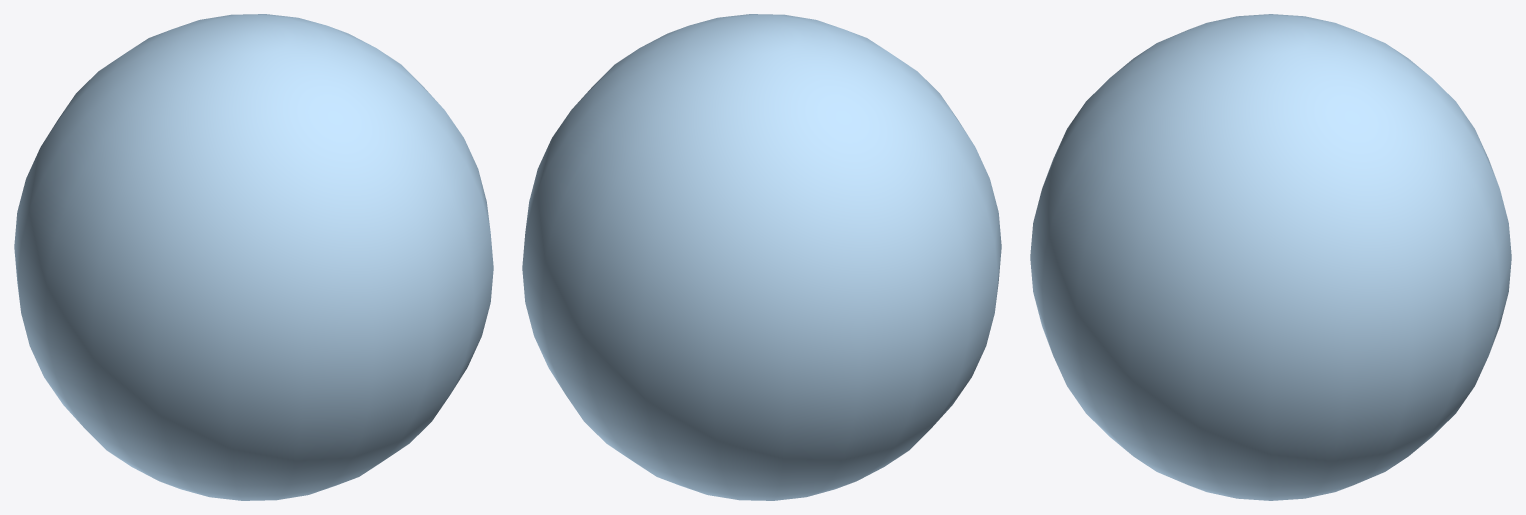
File: Egg_Final.fbx
The picture shows the model from 3 angles, left to right: view 1: azimuth 30°, elevation 25°; view 2: azimuth 150°, elevation 25°; view 3: azimuth 270°, elevation 25°; orthographic projection.
Parts seen in each view (by area): view 1: pSphere3; view 2: pSphere3; view 3: pSphere3.
Boxes of the visible parts, x1=… form: pSphere3: x1=14, y1=14, x2=493, y2=500; pSphere3: x1=522, y1=14, x2=1001, y2=500; pSphere3: x1=1030, y1=14, x2=1511, y2=500.
Size of the model in its own units: 2.92 by 2.96 by 2.92.
